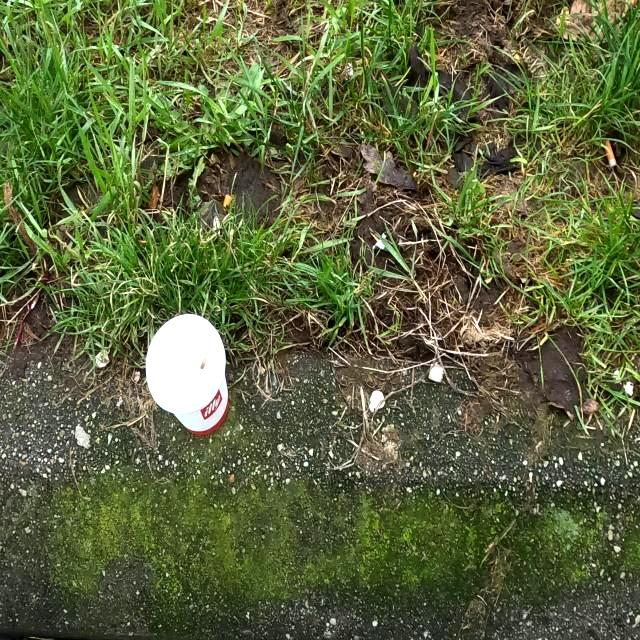Coffee Cup: (143, 312, 233, 442)
